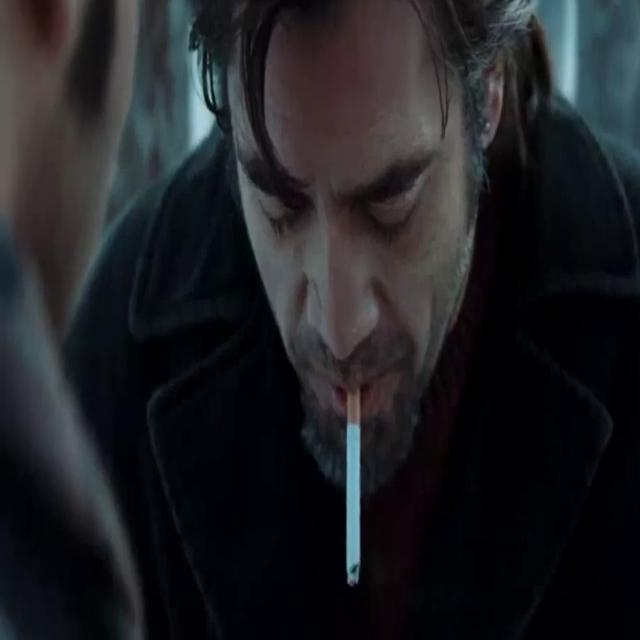Smooking: (341, 382, 367, 591)
